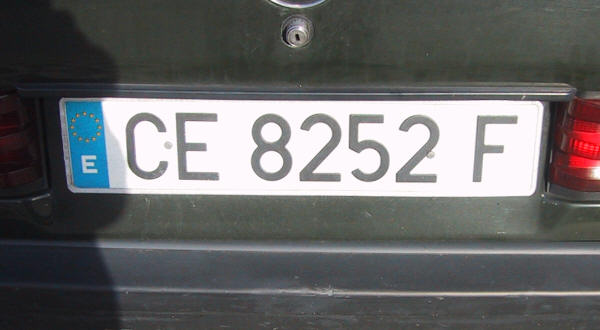license_plate: (62, 98, 541, 196)
